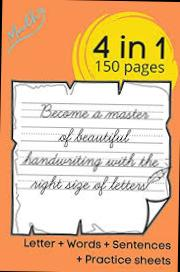text: (21, 148, 160, 173), (28, 173, 149, 196), (22, 235, 172, 251), (90, 32, 166, 62), (39, 101, 150, 121), (6, 4, 48, 55), (56, 126, 132, 148), (94, 58, 164, 76)
